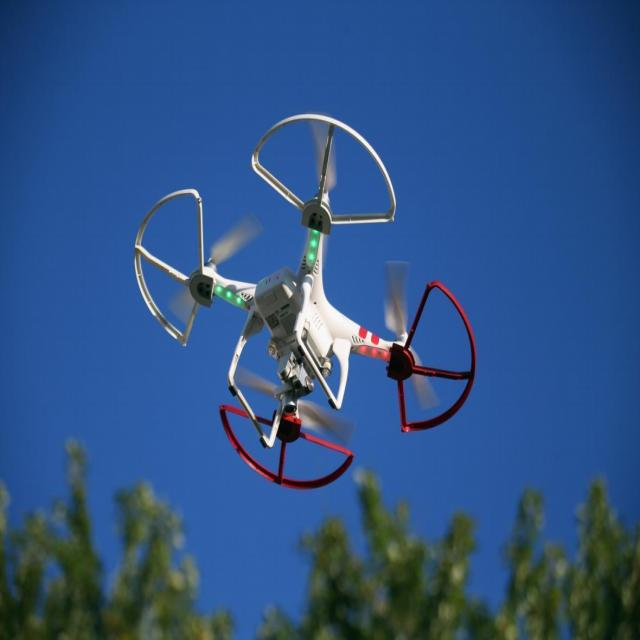UAV: (136, 109, 478, 491)
